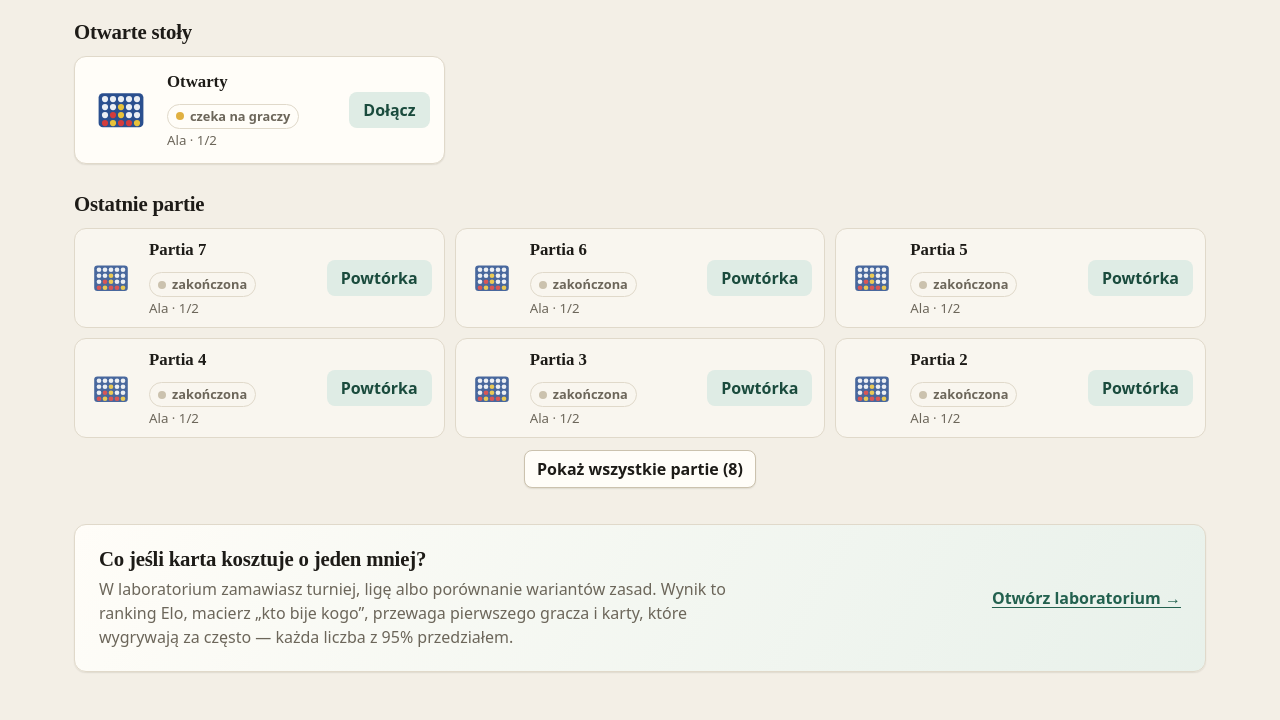
room rows › keep open tables apart from finished games and show only the latest games until asked
(page scrolled)
Expected: the heading "Ostatnie partie" is shown, [74,192,204,215]
Click the button "Pokaż wszystkie partie (8)": (640, 469) [524,450,756,488]
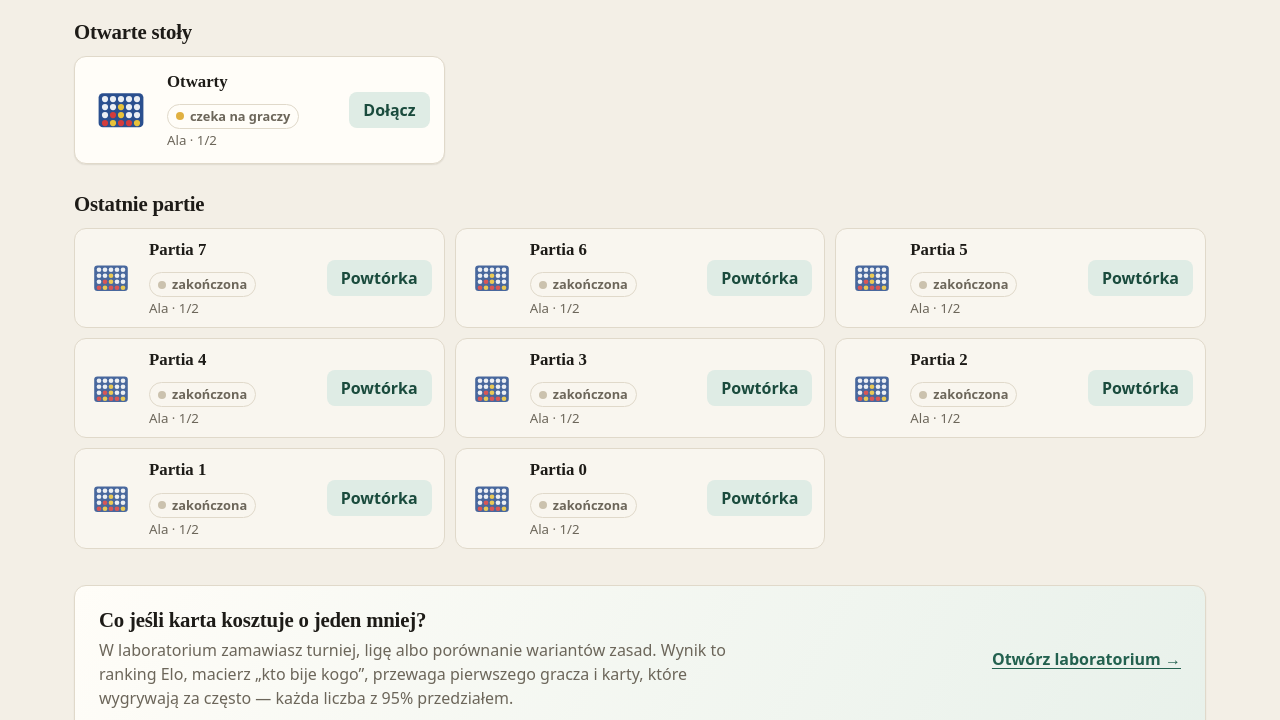
Now the button "Pokaż wszystkie" is gone
